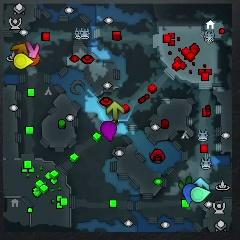p1: (182, 183, 197, 204)
p2: (191, 187, 212, 203)
p3: (100, 121, 117, 142)
p4: (13, 53, 33, 69)
p5: (30, 53, 41, 68)
x1: (26, 41, 40, 58)
x2: (107, 101, 124, 121)
x3: (195, 177, 211, 190)
x4: (179, 175, 193, 191)
x5: (12, 43, 28, 55)
